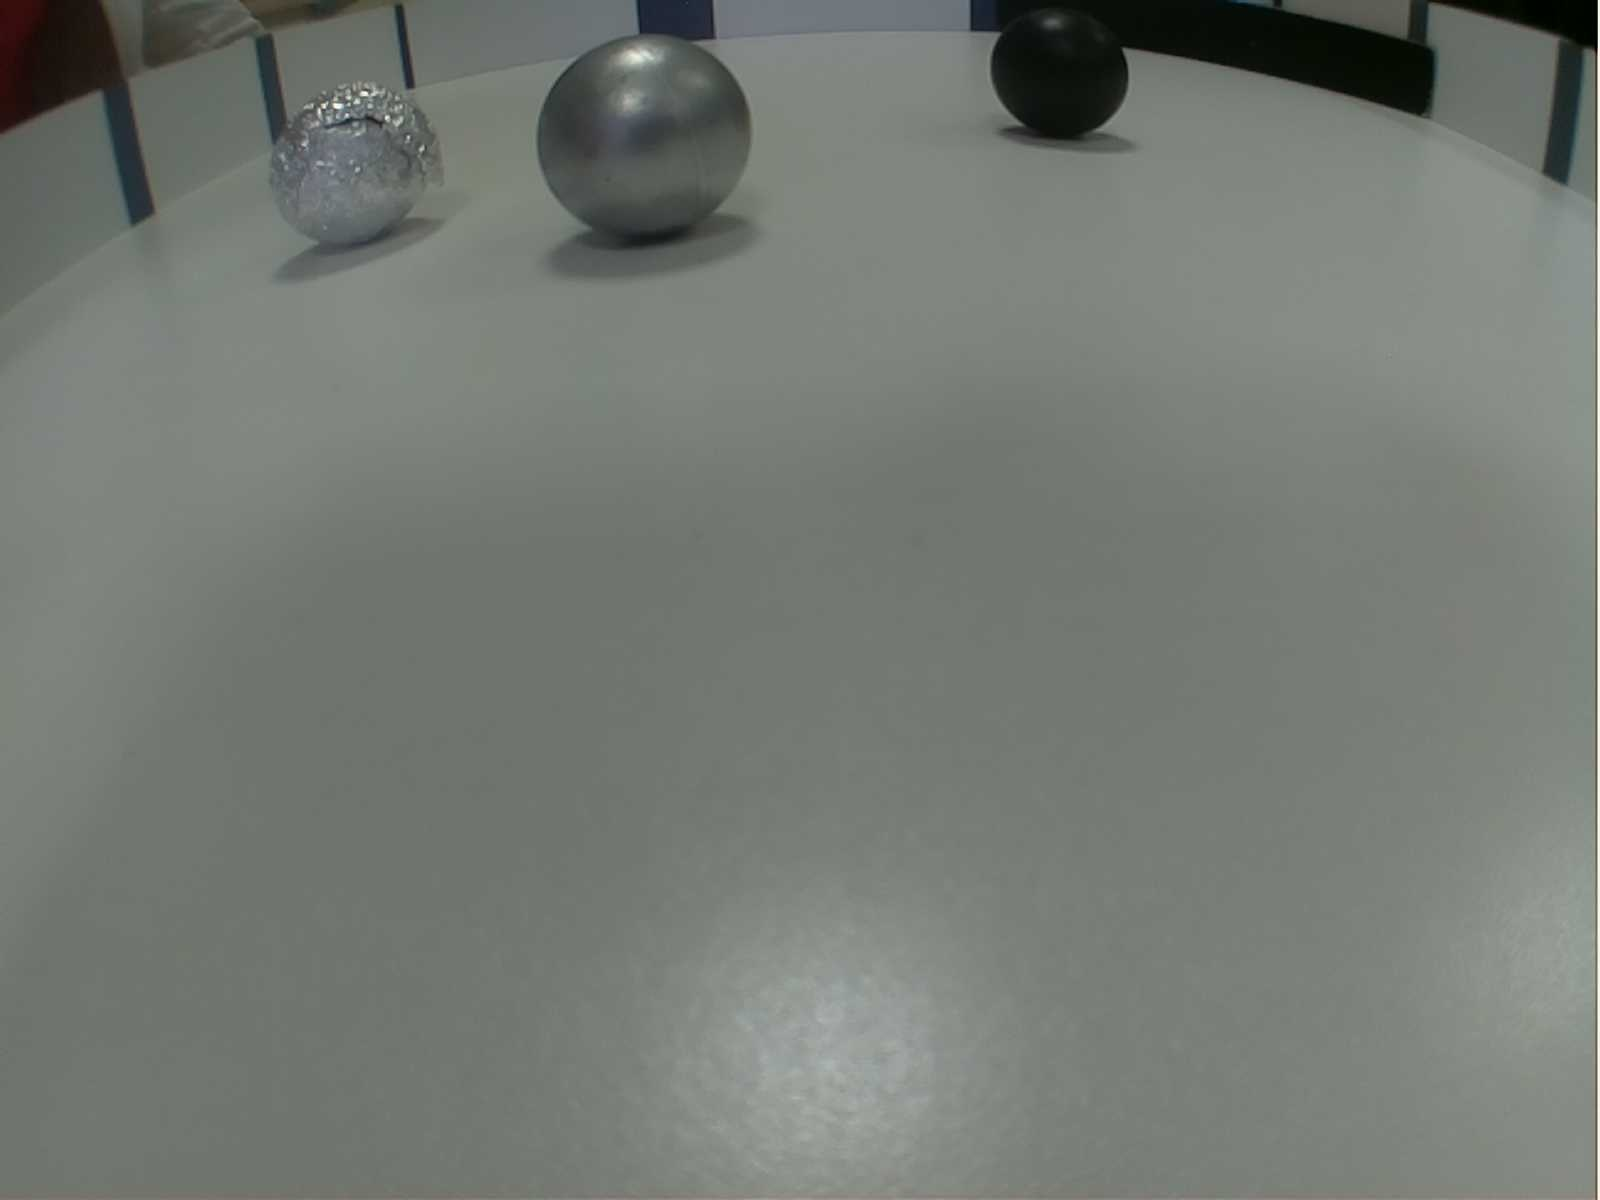bianca: (538, 32, 751, 245), (270, 78, 450, 258)
nera: (984, 1, 1130, 146)
